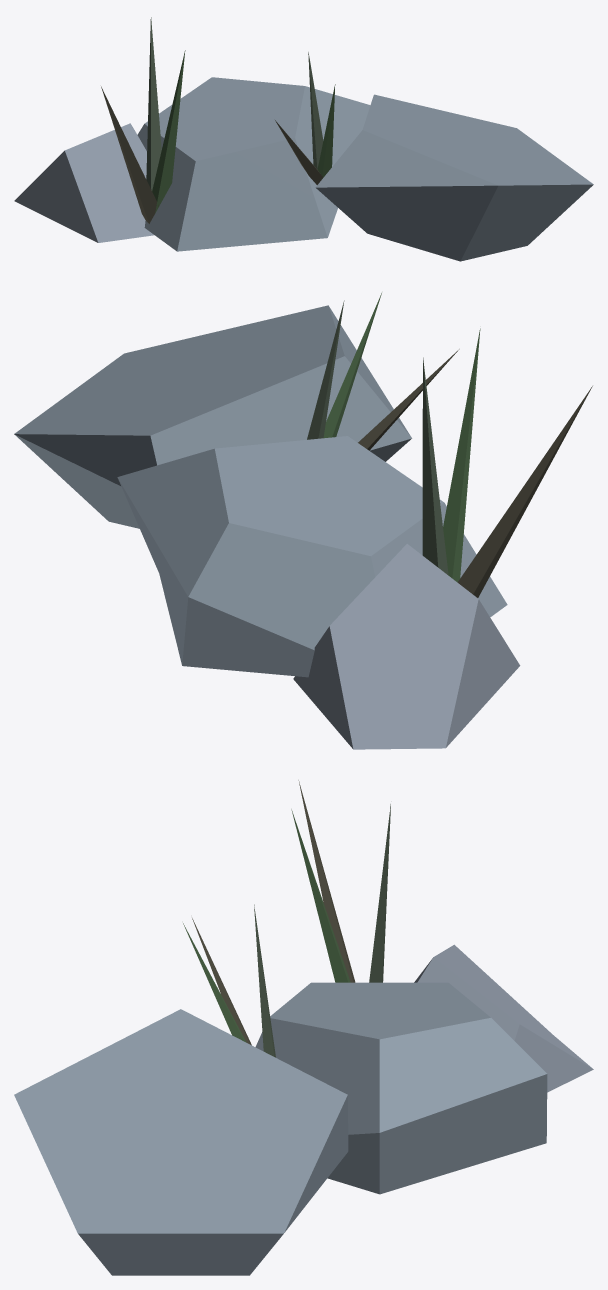
Rendered from Rocks.glb.
The picture shows the model from 3 angles, top to bottom: view 1: azimuth 30°, elevation 25°; view 2: azimuth 150°, elevation 25°; view 3: azimuth 270°, elevation 25°; orthographic projection. The views are drawn at different scales.
Visible parts, largest first — view 1: Rock-pack-ver4; view 2: Rock-pack-ver4; view 3: Rock-pack-ver4.
Boxes of the visible parts, x1,y1,x2,y2 form: Rock-pack-ver4: (14,17,593,261); Rock-pack-ver4: (14,293,592,749); Rock-pack-ver4: (14,780,593,1275).
Size of the model in its own units: 1.55 by 0.7977 by 1.41.
1 material, 1 textured.
